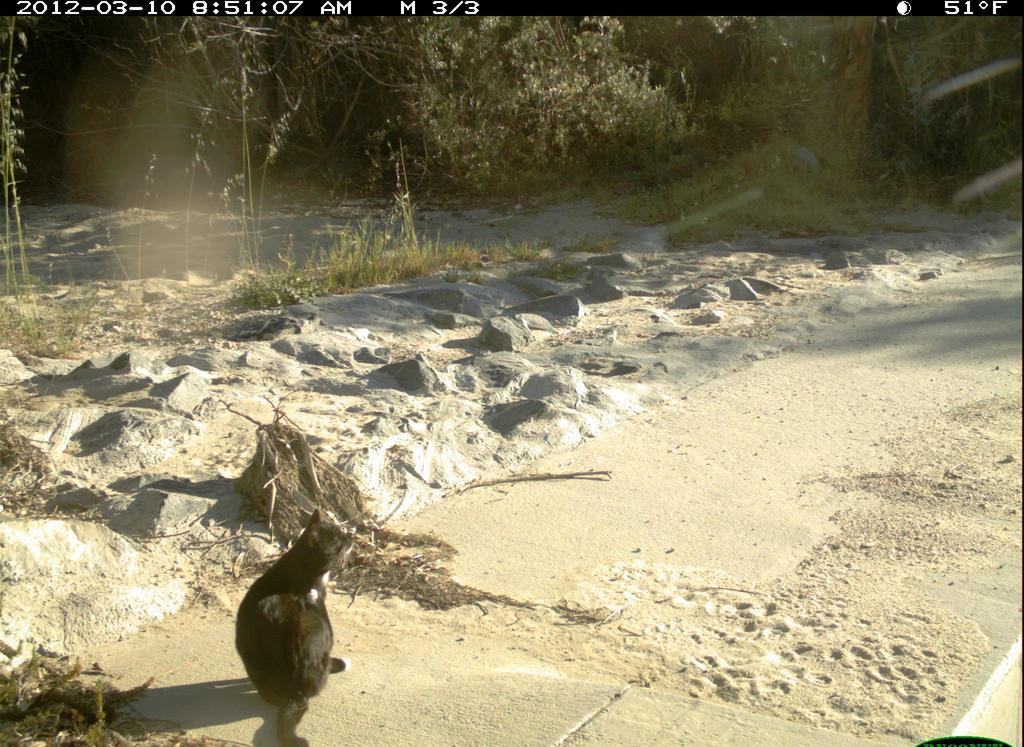cat: (227, 504, 363, 747)
